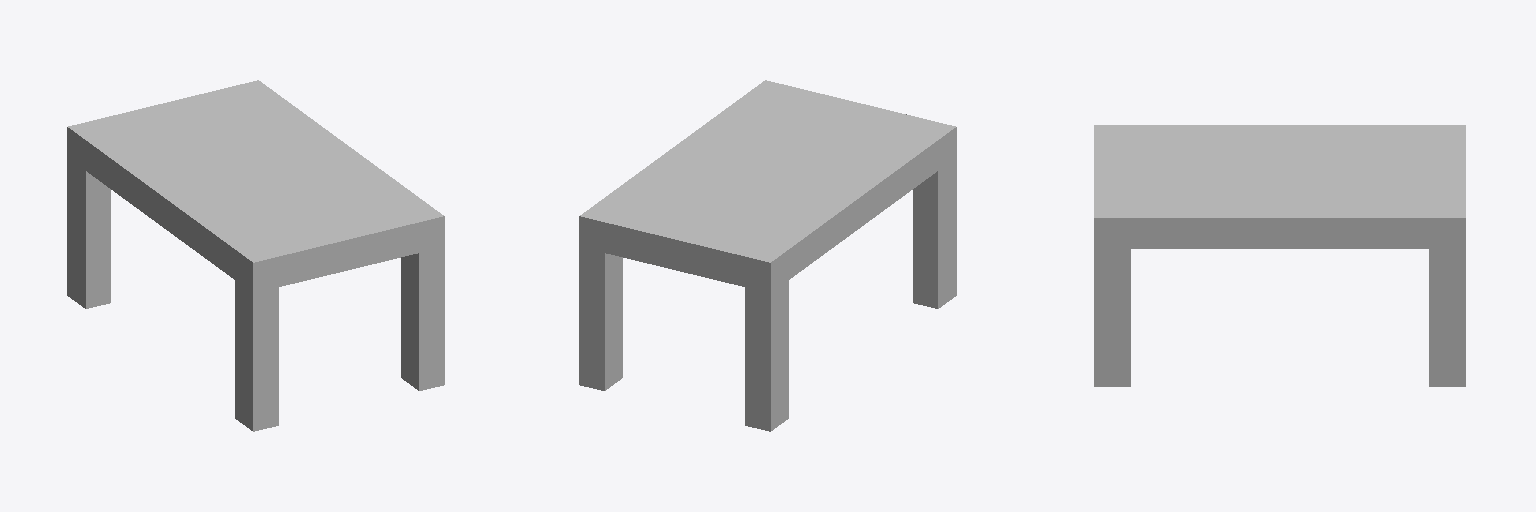
Rendered from Mesa.obj.
3 renders of one model, left to right at view 1: azimuth 30°, elevation 25°; view 2: azimuth 150°, elevation 25°; view 3: azimuth 270°, elevation 25°, orthographic.
Visible parts, largest first — view 1: Table; view 2: Table; view 3: Table.
Part boxes in pixels (x1,y1,x2,y2): Table: (67,80,444,431); Table: (579,80,956,431); Table: (1094,125,1465,386).
Size of the model in its own units: 59.58 by 50.34 by 100.